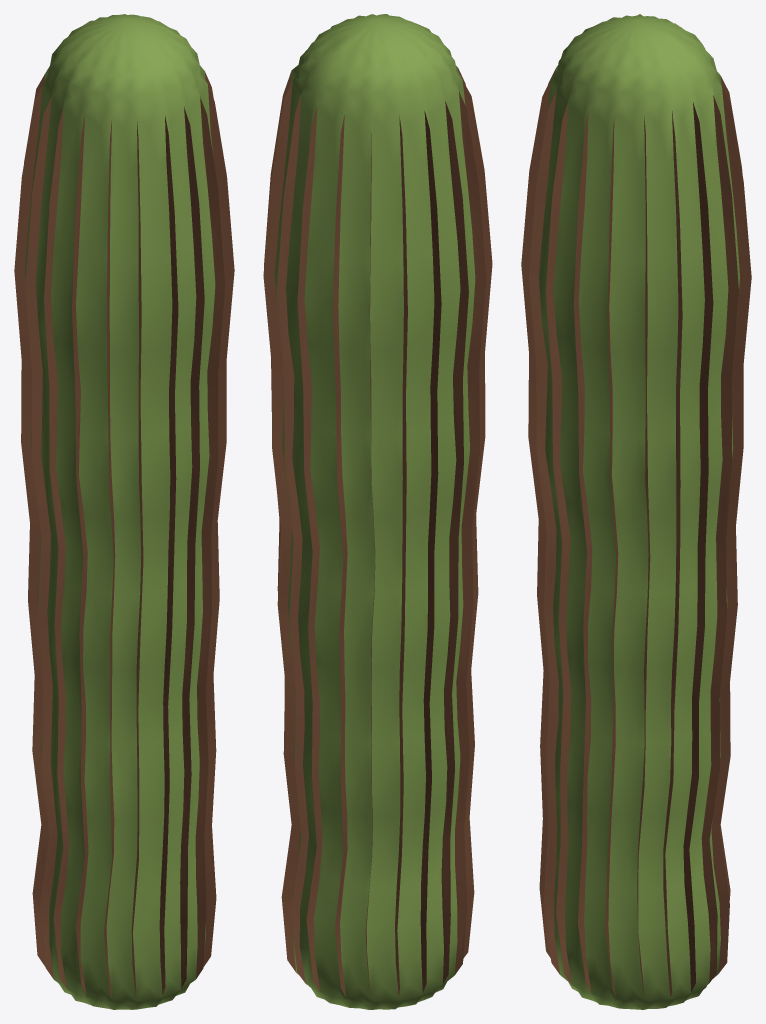
The model's file is cactus_1.fbx.
3 renders of one model, left to right at view 1: azimuth 30°, elevation 25°; view 2: azimuth 150°, elevation 25°; view 3: azimuth 270°, elevation 25°, orthographic.
Visible parts, largest first — view 1: Succulent_Carnegiea-gigantea_C_spring-summer; view 2: Succulent_Carnegiea-gigantea_C_spring-summer; view 3: Succulent_Carnegiea-gigantea_C_spring-summer.
Part boxes in pixels (x1,y1,x2,y2): Succulent_Carnegiea-gigantea_C_spring-summer: (14, 14, 234, 1009); Succulent_Carnegiea-gigantea_C_spring-summer: (263, 14, 492, 1009); Succulent_Carnegiea-gigantea_C_spring-summer: (521, 14, 751, 1009).
Bounding box in the file's own units: 29.55 × 144 × 30.8.
